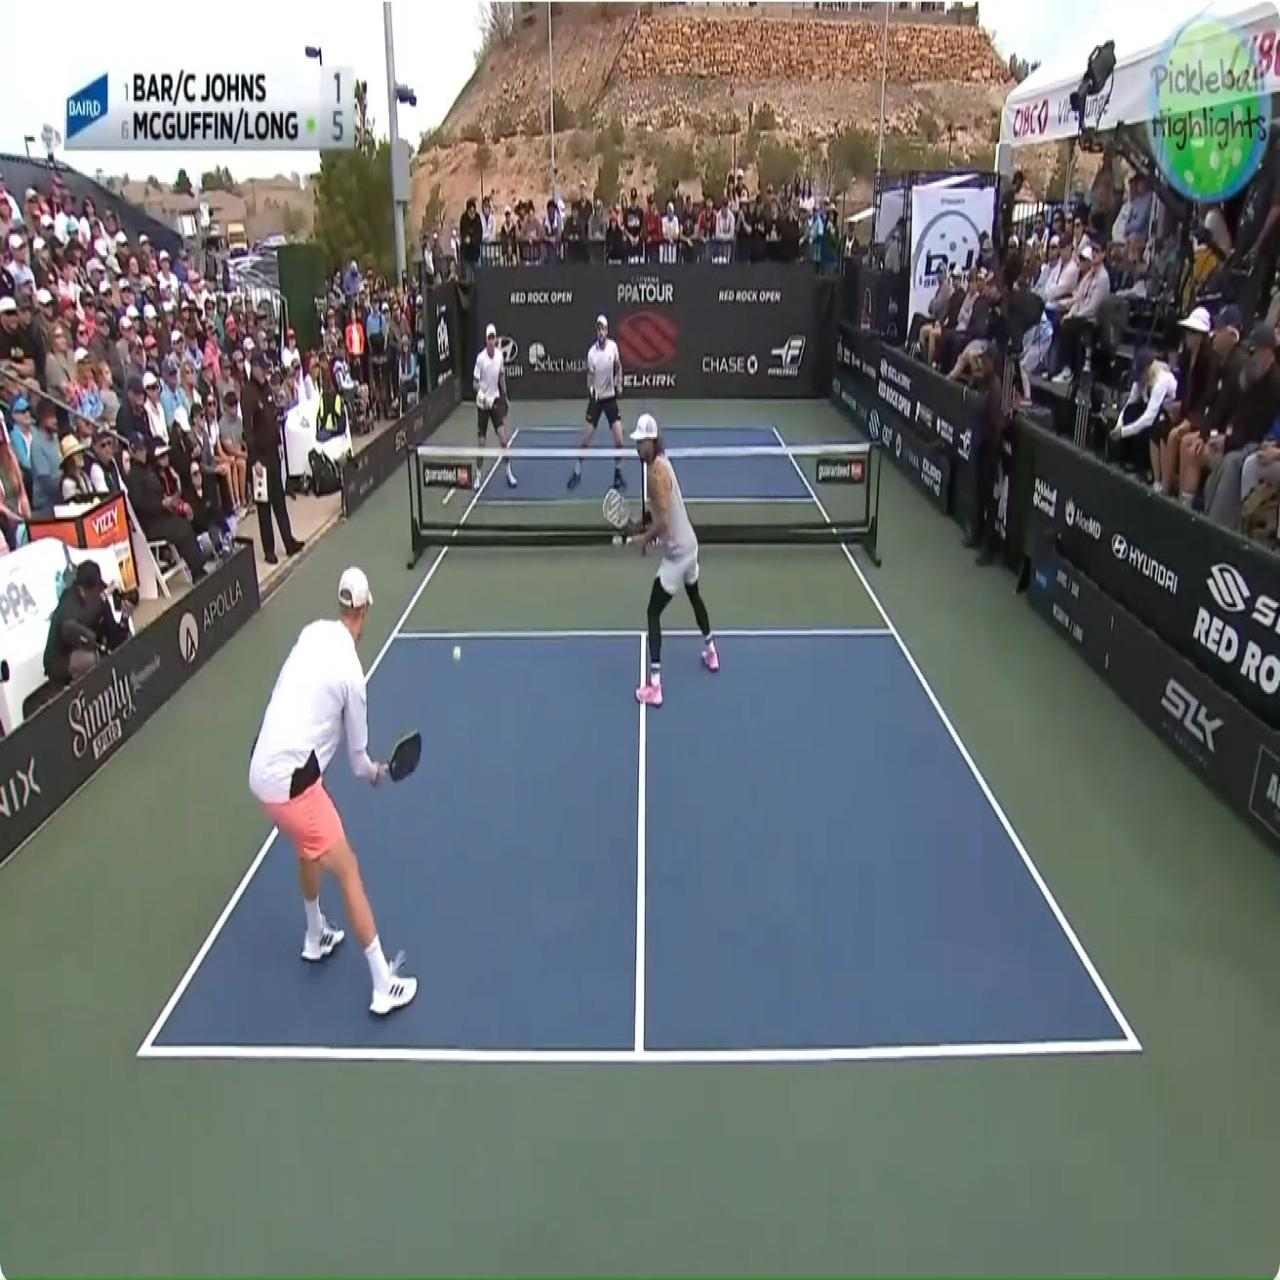pickleball: (452, 645, 461, 661)
